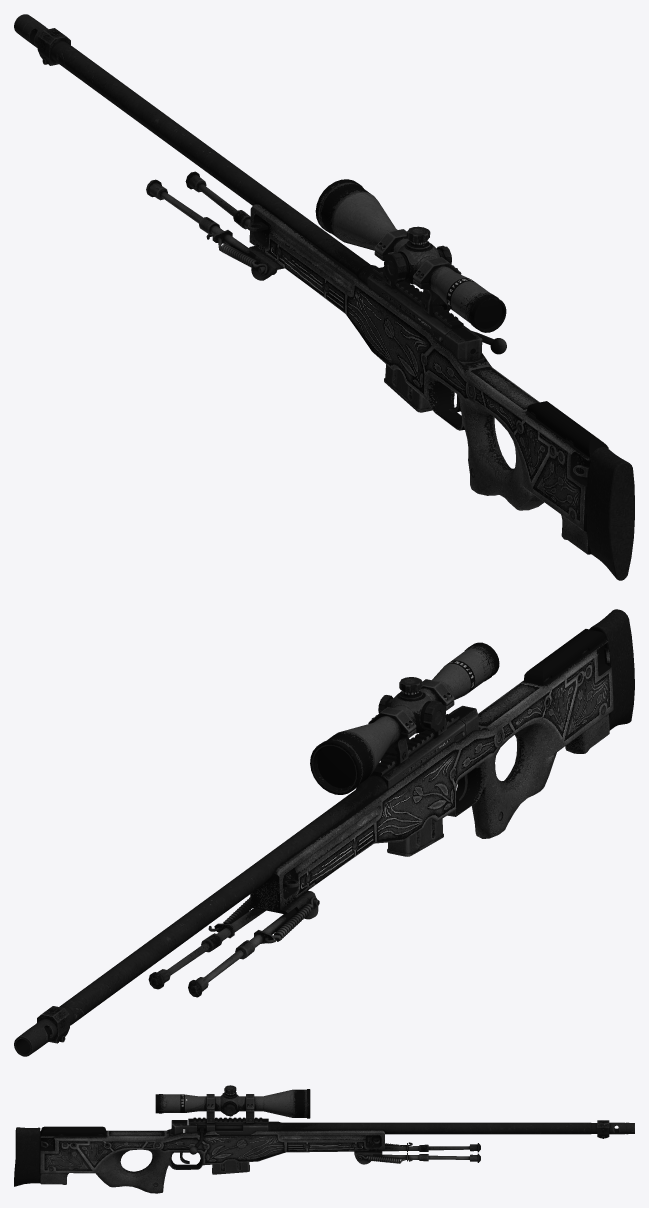
Rendered from awp.glb.
3 renders of one model, top to bottom at view 1: azimuth 30°, elevation 25°; view 2: azimuth 150°, elevation 25°; view 3: azimuth 270°, elevation 25°, orthographic. The views are drawn at different scales.
Parts seen in each view (by area): view 1: Object_2; view 2: Object_2, Object_3; view 3: Object_2.
Boxes of the visible parts, x1,y1,x2,y2 form: Object_2: (14,14,634,580); Object_2: (14,609,634,1056); Object_3: (317,745,355,788); Object_2: (14,1085,634,1193).
Bounding box in the file's own units: 0.1252 × 0.2749 × 1.46.
2 materials, 1 textured.
